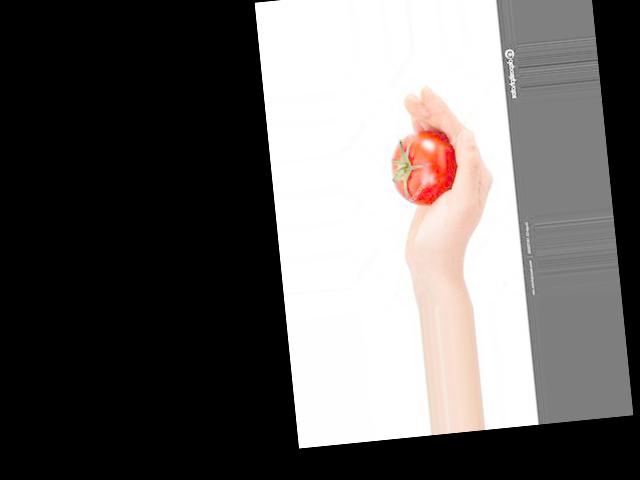tomato: (389, 130, 459, 209)
